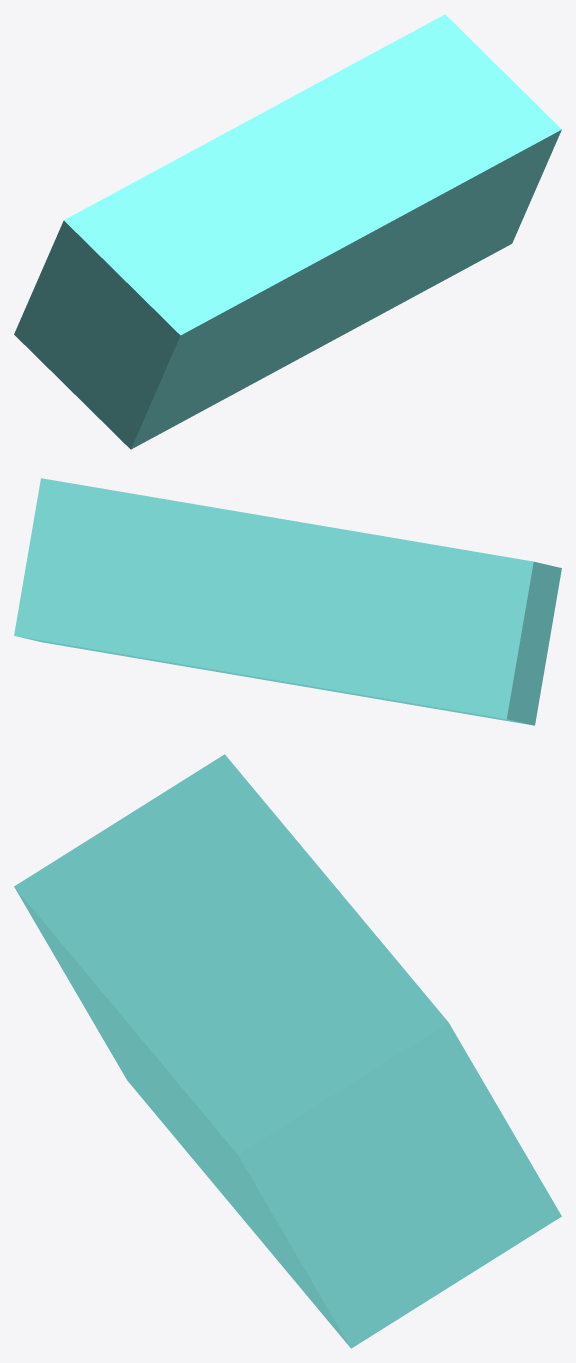
File: 3dimg.glb
3 renders of one model, top to bottom at view 1: azimuth 30°, elevation 25°; view 2: azimuth 150°, elevation 25°; view 3: azimuth 270°, elevation 25°, orthographic. The views are drawn at different scales.
Parts seen in each view (by area): view 1: mesh_id34; view 2: mesh_id34; view 3: mesh_id34.
Boxes of the visible parts, box(x1,y1,x2,y2) form: mesh_id34: box(14, 14, 561, 449); mesh_id34: box(14, 478, 561, 725); mesh_id34: box(14, 754, 561, 1348).
Size of the model in its own units: 0.6021 by 0.2791 by 0.3902.
1 material, 1 textured.
